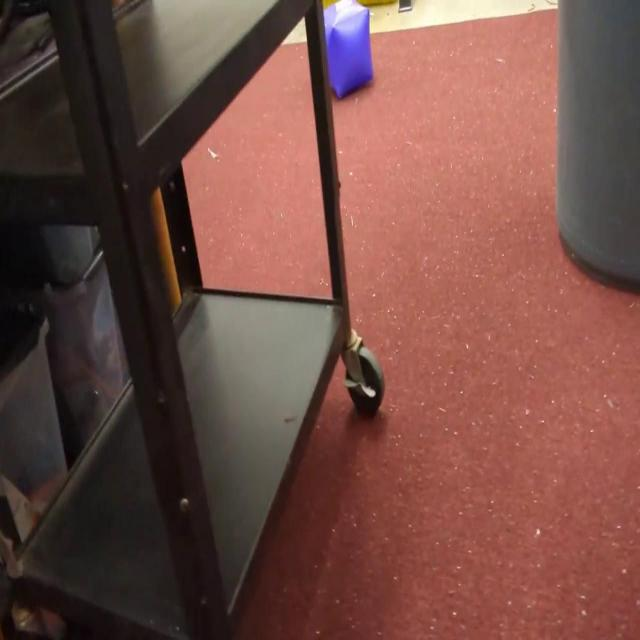frc_cube: (323, 0, 372, 97)
